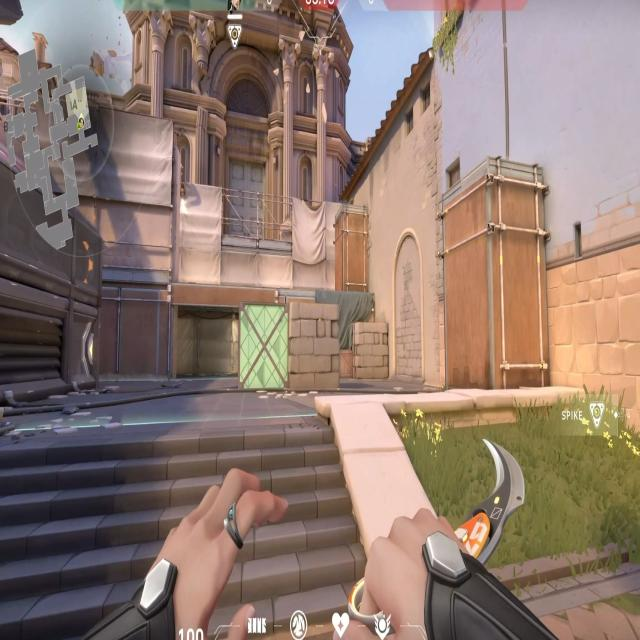A_Heaven_Box: (331, 200, 376, 296)
A_Heaven_Wall: (13, 114, 177, 282)
A_Hell: (166, 273, 278, 397)
A_Site_Box: (236, 292, 345, 398)
